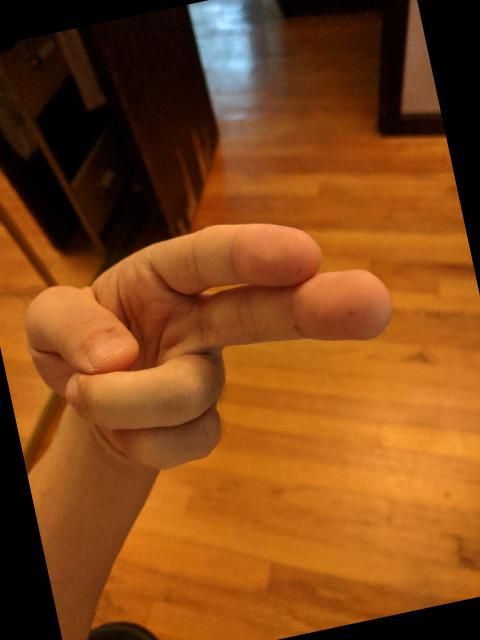H: (6, 184, 424, 498)
